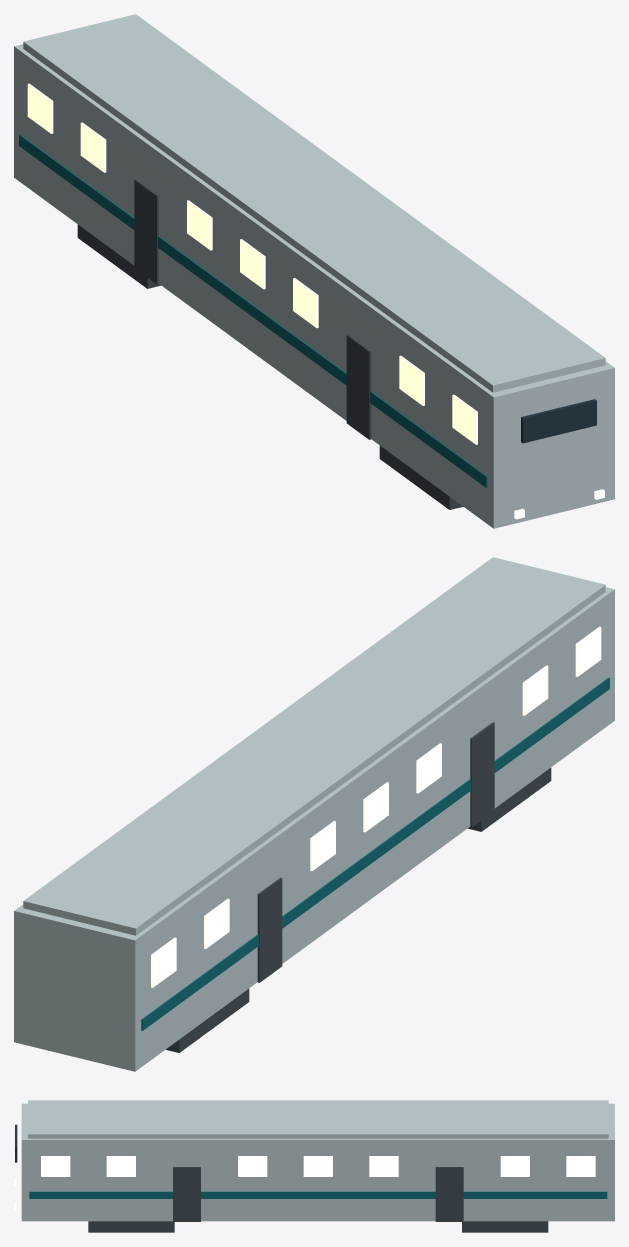
Rendered from jr-cab.glb.
3 views of the same model, one above another, from view 1: azimuth 30°, elevation 25°; view 2: azimuth 150°, elevation 25°; view 3: azimuth 270°, elevation 25° (orthographic). The views are drawn at different scales.
Size of the model in its own units: 2.89 by 3.57 by 19.45.
